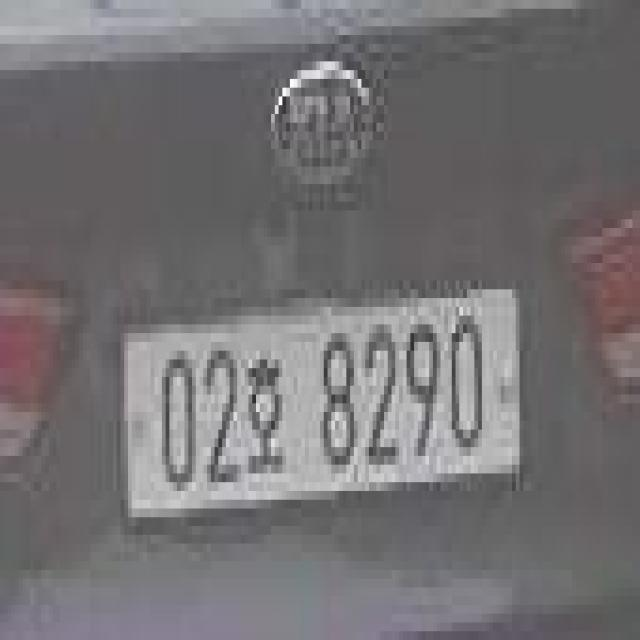illegal_plate: (119, 284, 527, 526)
